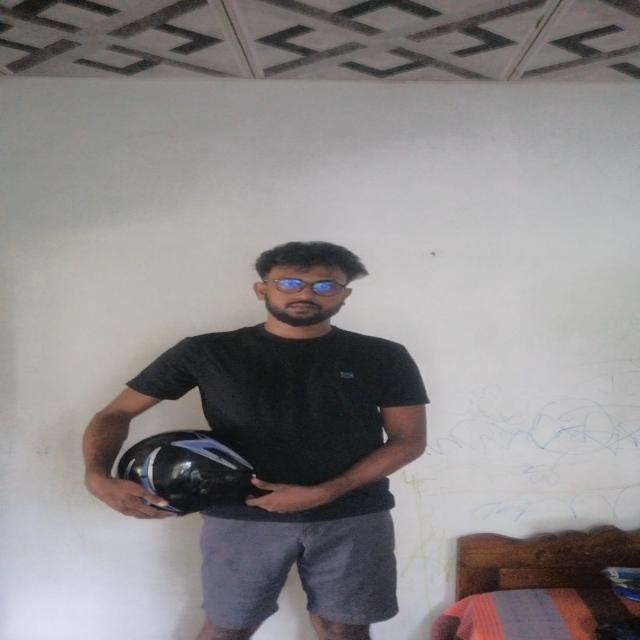Person: (98, 233, 432, 640)
